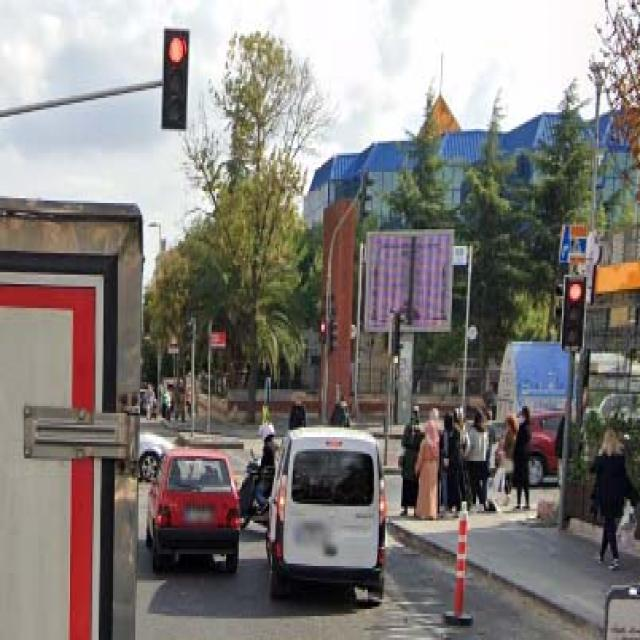kirmizi: (162, 27, 188, 132), (562, 274, 586, 356)
